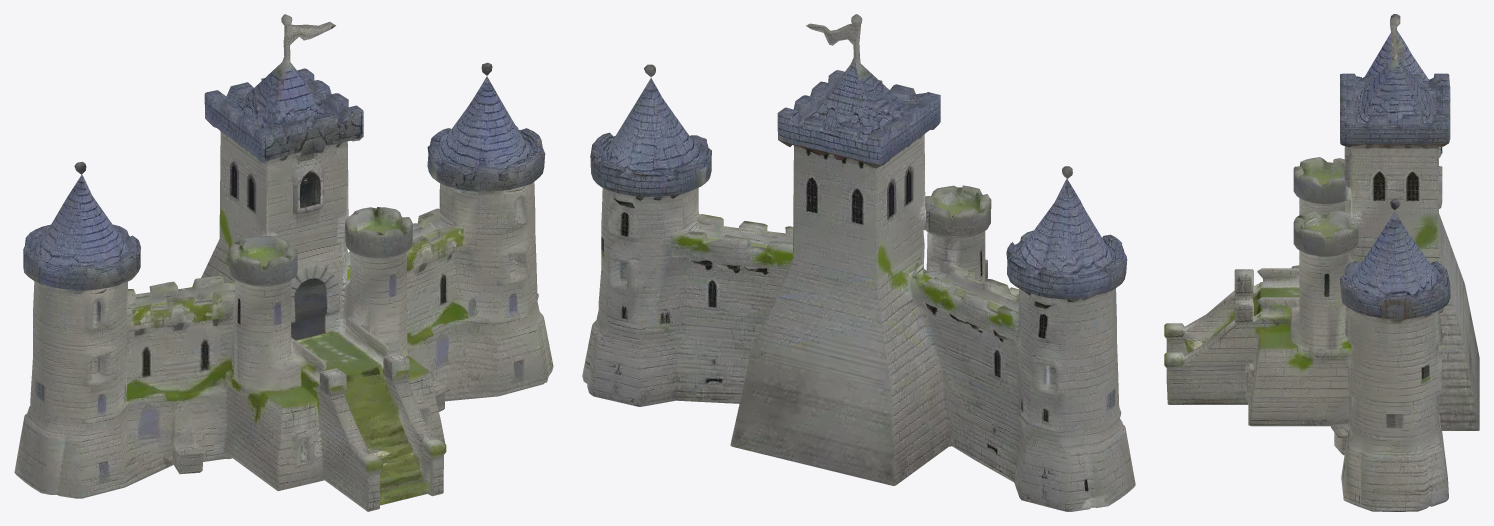
File: low-poly-castle.glb
The picture shows the model from 3 angles, left to right: view 1: azimuth 30°, elevation 25°; view 2: azimuth 150°, elevation 25°; view 3: azimuth 270°, elevation 25°; orthographic projection. The views are drawn at different scales.
Size of the model in its own units: 2 by 1.52 by 1.14.
Materials: 1 (1 with a texture image).
